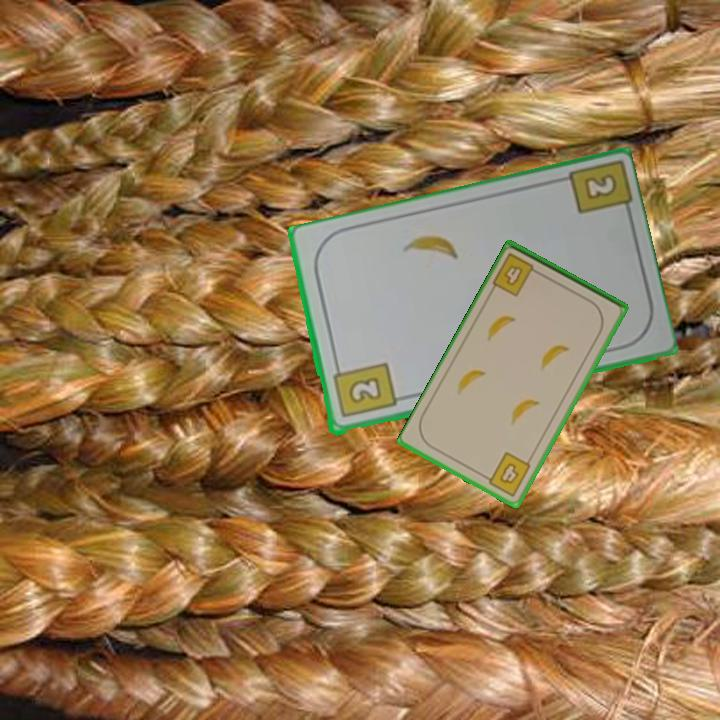2b: (329, 359, 398, 421), (580, 170, 620, 203)
4b: (480, 448, 534, 500), (489, 249, 544, 300)
